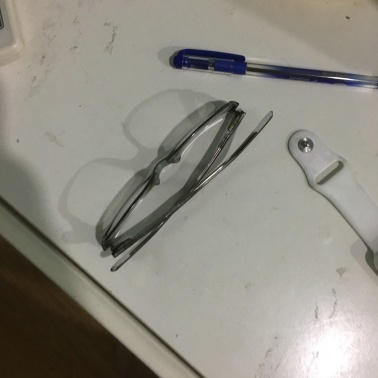glasses: (105, 101, 233, 257)
